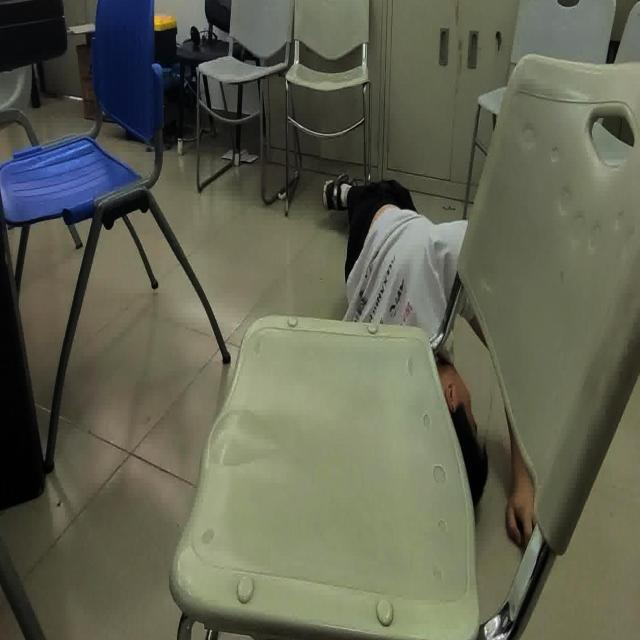fall: (320, 171, 544, 544)
